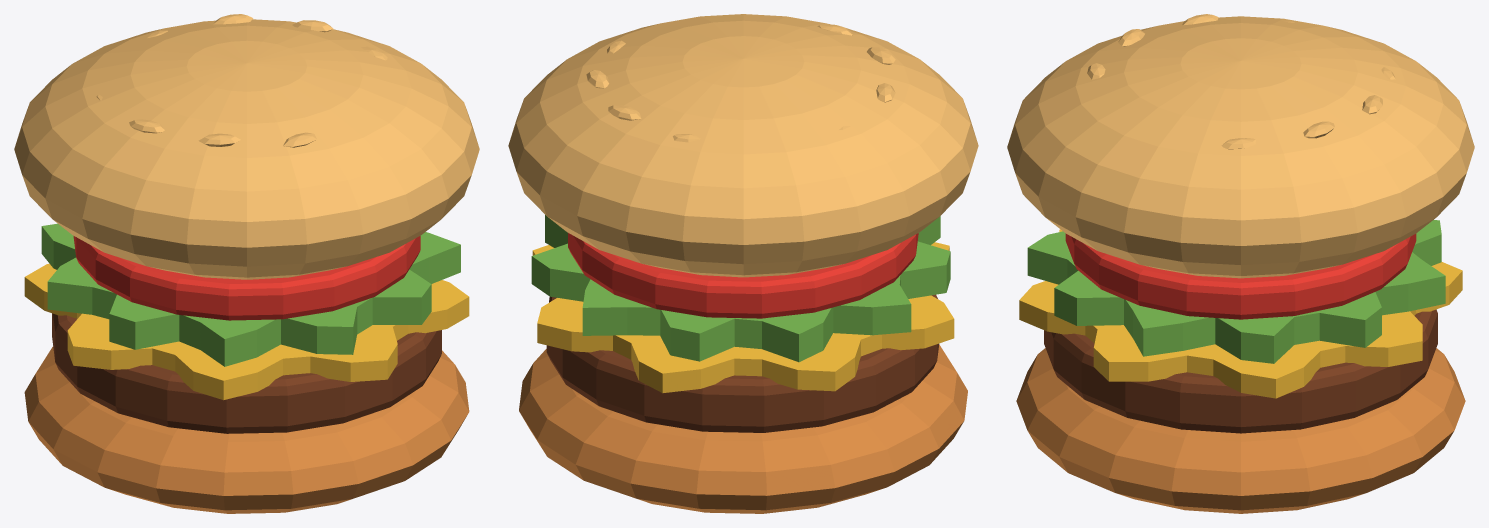
File: burger-complete.glb
The picture shows the model from 3 angles, left to right: view 1: azimuth 30°, elevation 25°; view 2: azimuth 150°, elevation 25°; view 3: azimuth 270°, elevation 25°; orthographic projection.
Visible parts, largest first — view 1: BurgerCompleteMerged; view 2: BurgerCompleteMerged; view 3: BurgerCompleteMerged.
Part boxes in pixels (x1,y1,x2,y2): BurgerCompleteMerged: [14, 14, 479, 513]; BurgerCompleteMerged: [508, 14, 978, 513]; BurgerCompleteMerged: [1007, 14, 1474, 513].
Bounding box in the file's own units: 1.52 × 1.44 × 1.52.
